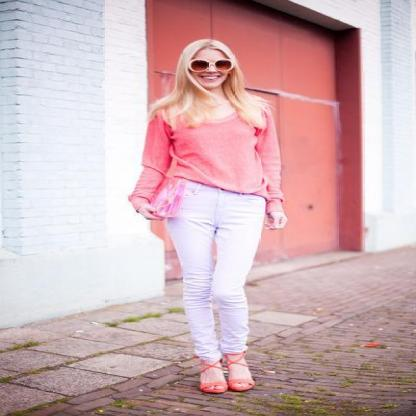bag: (155, 180, 185, 219)
pants: (165, 182, 263, 362)
shirt: (130, 113, 284, 208)
shoe: (201, 374, 236, 392)
sunglass: (191, 61, 231, 70)
